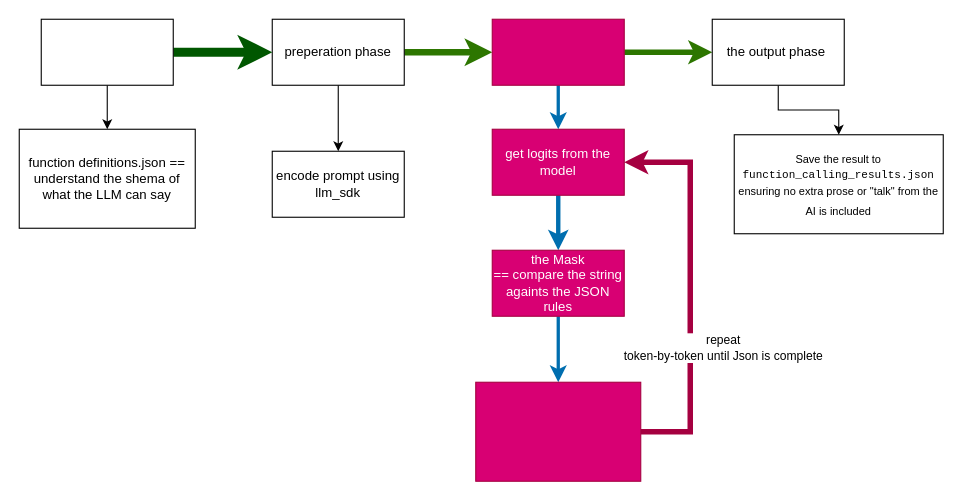
Some shapes in this 963 by 501 pixel diagram are drawn without their labels. The box of each missing label's shape, as (x1, y1, x2, y2) in pixels:
Call me maybe loop: (491, 18, 624, 85)
input phase: (40, 18, 173, 85)
the filter == You are only allowed to pick tokens that keep this JSON valid: (475, 381, 641, 481)
